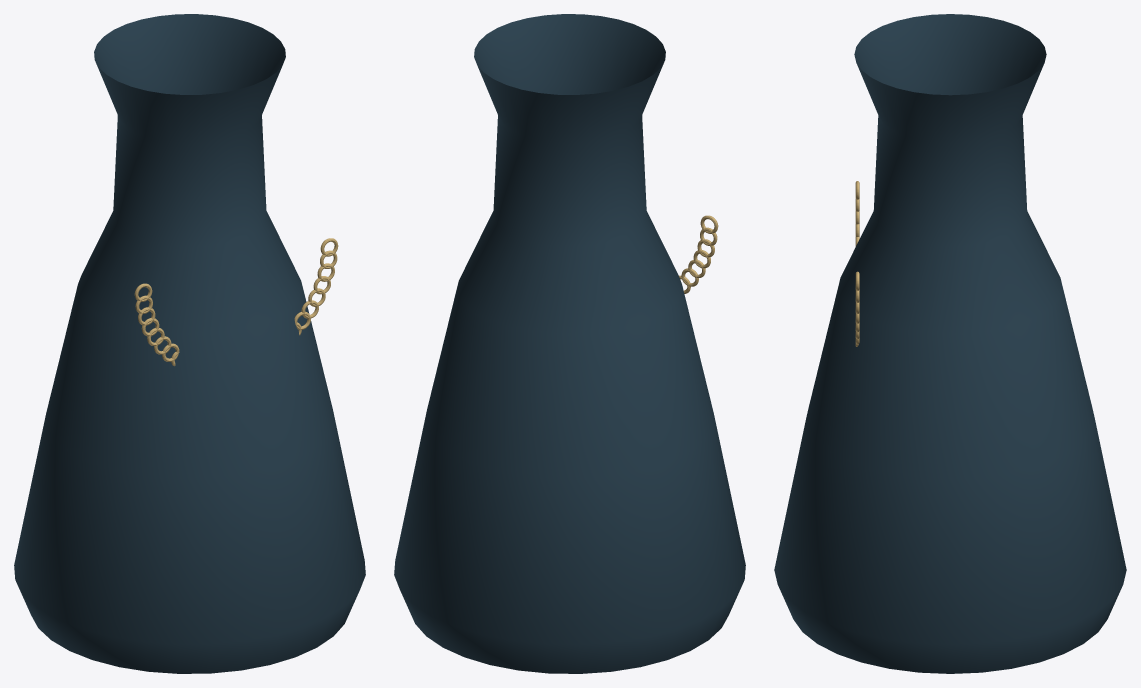
File: sku_v24_necklace.glb
3 renders of one model, left to right at view 1: azimuth 30°, elevation 25°; view 2: azimuth 150°, elevation 25°; view 3: azimuth 270°, elevation 25°, orthographic.
Visible parts, largest first — view 1: sku_v24_necklace_V24_velvet_blue, sku_v24_necklace_V24_brushed_gold; view 2: sku_v24_necklace_V24_velvet_blue, sku_v24_necklace_V24_brushed_gold; view 3: sku_v24_necklace_V24_velvet_blue, sku_v24_necklace_V24_brushed_gold.
Boxes of the visible parts, x1,y1,x2,y2 form: sku_v24_necklace_V24_velvet_blue: (14,14,365,673); sku_v24_necklace_V24_brushed_gold: (134,238,338,366); sku_v24_necklace_V24_velvet_blue: (394,14,745,673); sku_v24_necklace_V24_brushed_gold: (679,215,718,293); sku_v24_necklace_V24_velvet_blue: (774,14,1126,673); sku_v24_necklace_V24_brushed_gold: (855,181,859,346).
Bounding box in the file's own units: 0.22 × 0.38 × 0.22.
